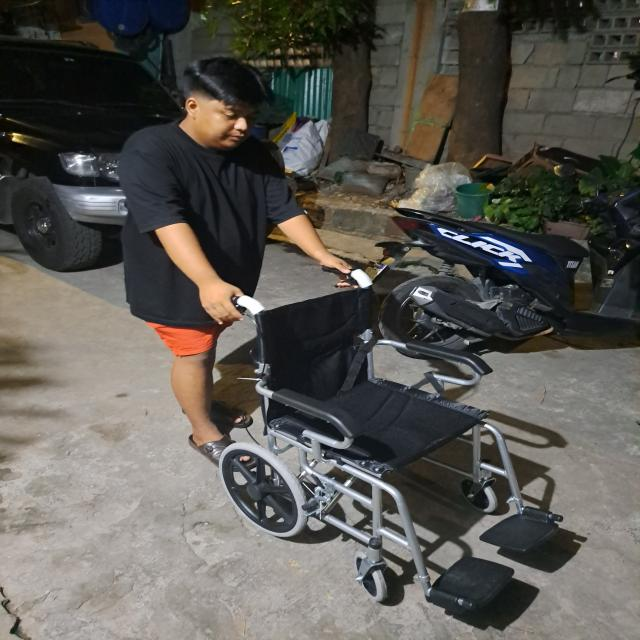wheelchairs: (204, 265, 587, 621)
